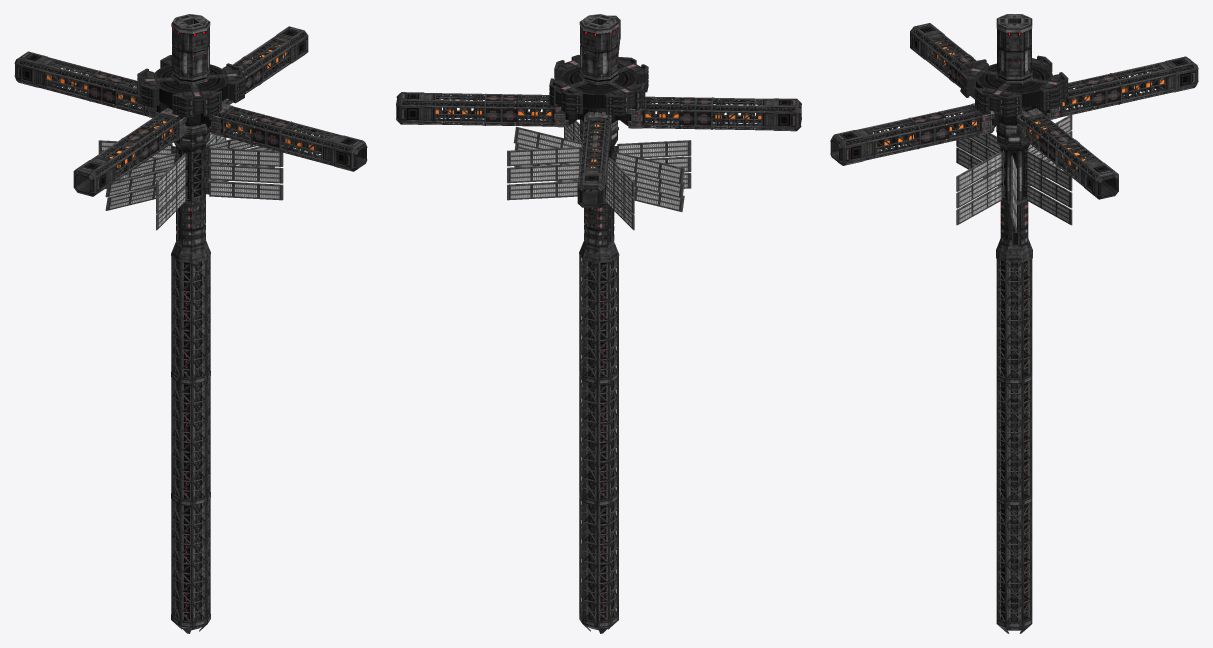
Rendered from SOLG_ACEINF.fbx.
3 views of the same model, side by side, from view 1: azimuth 30°, elevation 25°; view 2: azimuth 150°, elevation 25°; view 3: azimuth 270°, elevation 25° (orthographic).
Visible parts, largest first — view 1: s_solg_l1_O_OBJ_O_HIR.002, s_sg09_l1_O_OBJ_O_HIR.001, s_sg02_l1_O_OBJ_O_HIR.004, s_sg02_l1_O_OBJ_O_HIR.005, s_sg02_l1_O_OBJ_O_HIR.006; view 2: s_solg_l1_O_OBJ_O_HIR.002, s_sg09_l1_O_OBJ_O_HIR.001, s_sg02_l1_O_OBJ_O_HIR.005, s_sg02_l1_O_OBJ_O_HIR.007; view 3: s_solg_l1_O_OBJ_O_HIR.002, s_sg09_l1_O_OBJ_O_HIR.001, s_sg02_l1_O_OBJ_O_HIR.006, s_sg02_l1_O_OBJ_O_HIR.007, s_sg02_l1_O_OBJ_O_HIR.004.
Part boxes in pixels (bbox=[...]): s_solg_l1_O_OBJ_O_HIR.002: bbox=[98, 14, 283, 633]; s_sg09_l1_O_OBJ_O_HIR.001: bbox=[14, 26, 367, 196]; s_sg02_l1_O_OBJ_O_HIR.004: bbox=[172, 84, 221, 117]; s_sg02_l1_O_OBJ_O_HIR.005: bbox=[137, 68, 174, 108]; s_sg02_l1_O_OBJ_O_HIR.006: bbox=[209, 63, 244, 103]; s_solg_l1_O_OBJ_O_HIR.002: bbox=[507, 14, 691, 633]; s_sg09_l1_O_OBJ_O_HIR.001: bbox=[396, 15, 801, 207]; s_sg02_l1_O_OBJ_O_HIR.005: bbox=[605, 81, 645, 115]; s_sg02_l1_O_OBJ_O_HIR.007: bbox=[549, 78, 587, 113]; s_solg_l1_O_OBJ_O_HIR.002: bbox=[956, 14, 1072, 633]; s_sg09_l1_O_OBJ_O_HIR.001: bbox=[830, 23, 1198, 199]; s_sg02_l1_O_OBJ_O_HIR.006: bbox=[975, 83, 1021, 116]; s_sg02_l1_O_OBJ_O_HIR.007: bbox=[1029, 72, 1068, 110]; s_sg02_l1_O_OBJ_O_HIR.004: bbox=[960, 59, 996, 97].
Bounding box in the file's own units: 111237 × 203000 × 111180.
Materials: 11 (11 with a texture image).
